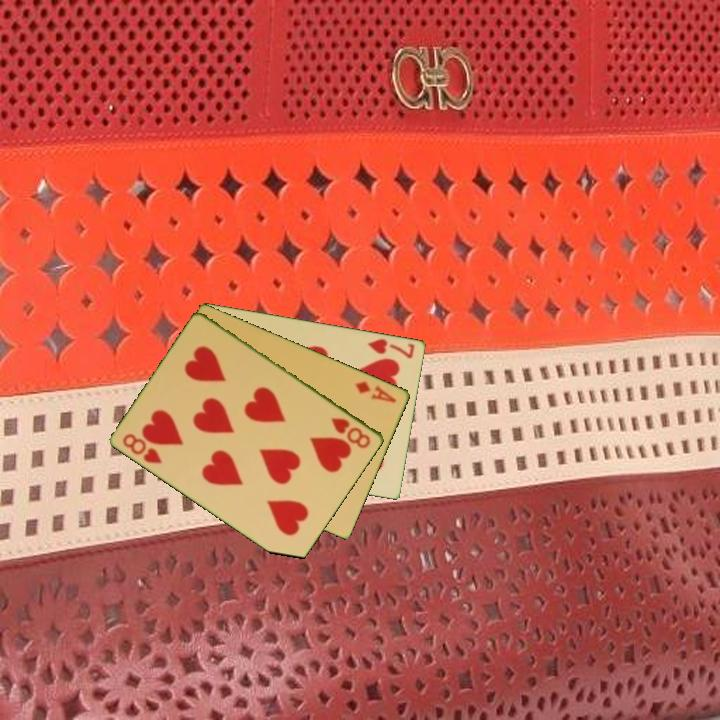7h: (365, 335, 417, 361)
8h: (328, 414, 374, 451), (119, 430, 165, 466)
Ad: (352, 377, 400, 405)
